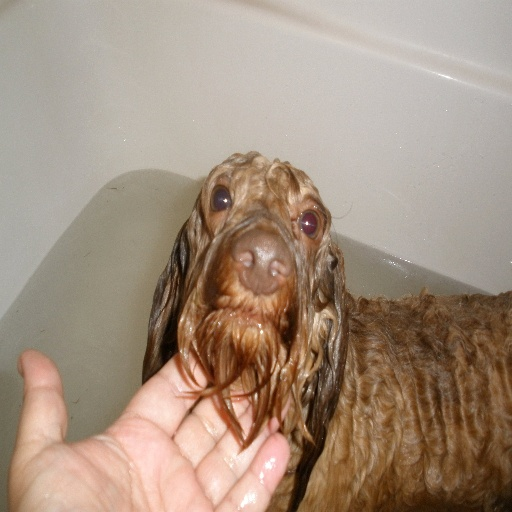hand: (10, 348, 302, 511)
